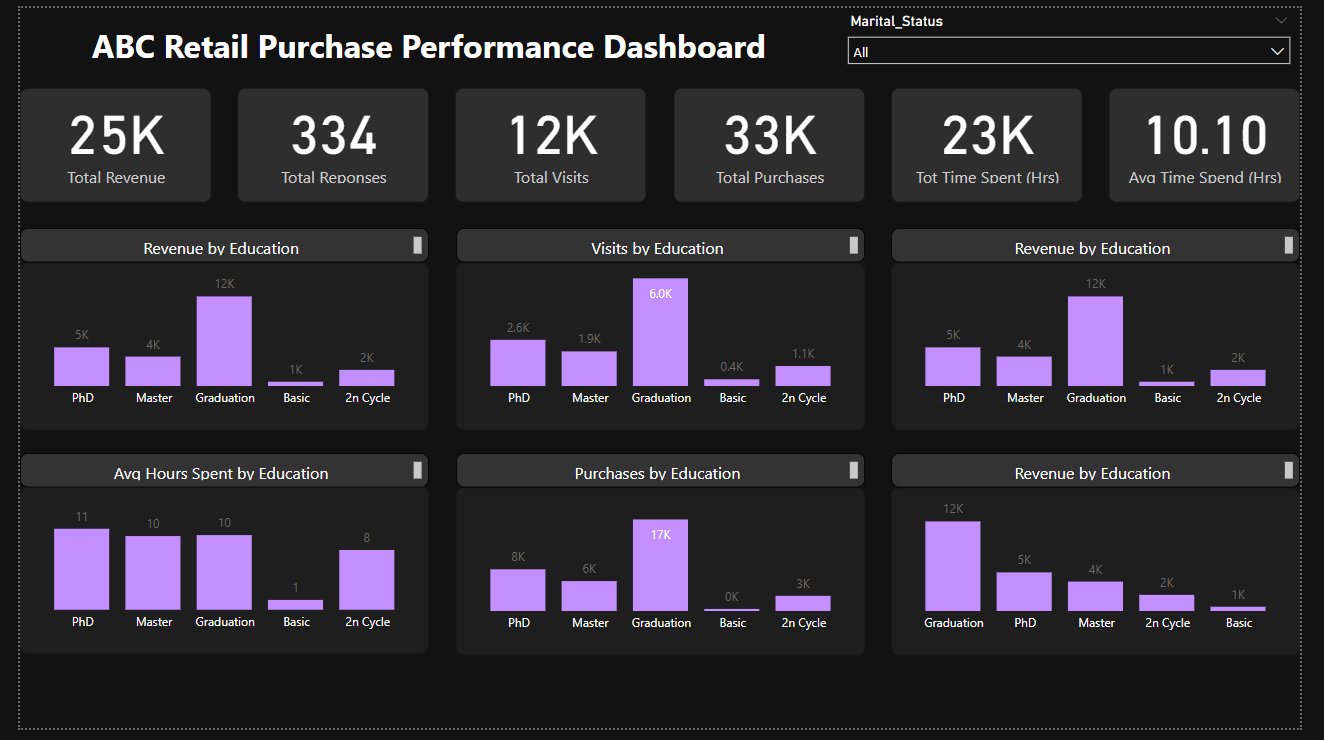

The page's visual inventory and layout, read from the dashboard file:
{"tool":"powerbi","page":{"name":"Page 1","canvas":[1280,720],"ordinal":0},"visuals":[{"type":"card","fields":{"Values":["C2_Customer_Marketing_PBI_4July2023.Total Revenue"]},"box":[0,80.1,191.3,114.4],"z":0},{"type":"card","fields":{"Values":["C2_Customer_Marketing_PBI_4July2023.Time Spent (Mins)"]},"box":[870.9,80.1,191.3,114.4],"z":1000},{"type":"card","fields":{"Values":["C2_Customer_Marketing_PBI_4July2023.Total Reponses"]},"box":[217.7,80.1,191.3,114.4],"z":2000},{"type":"card","fields":{"Values":["C2_Customer_Marketing_PBI_4July2023.Total Visits"]},"box":[435.5,80.1,191.3,114.4],"z":3000},{"type":"card","fields":{"Values":["C2_Customer_Marketing_PBI_4July2023.Total Purchases"]},"box":[653.2,80.1,191.3,114.4],"z":4000},{"type":"card","fields":{"Values":["C2_Customer_Marketing_PBI_4July2023.Avg Time Spend (Hrs)"]},"box":[1088.7,80.1,191.3,114.4],"z":5000},{"type":"textbox","box":[0,0,817.5,57.5],"z":6000},{"type":"columnChart","fields":{"Y":["C2_Customer_Marketing_PBI_4July2023.Total Revenue"],"Category":["C2_Customer_Marketing_PBI_4July2023.Education"]},"box":[0,254.5,408.6,167.4],"z":7000},{"type":"textbox","box":[0,220.2,408.6,34.3],"z":8000},{"type":"columnChart","fields":{"Category":["C2_Customer_Marketing_PBI_4July2023.Education"],"Y":["C2_Customer_Marketing_PBI_4July2023.Avg Time Spend (Hrs)"]},"box":[0,479.1,408.6,167.4],"z":9000},{"type":"textbox","box":[0,444.8,408.6,34.3],"z":10000},{"type":"columnChart","fields":{"Category":["C2_Customer_Marketing_PBI_4July2023.Education"],"Y":["C2_Customer_Marketing_PBI_4July2023.Total Visits"]},"box":[435.7,254.5,408.6,167.4],"z":11000},{"type":"textbox","box":[435.7,220.2,408.6,34.3],"z":12000},{"type":"columnChart","fields":{"Category":["C2_Customer_Marketing_PBI_4July2023.Education"],"Y":["C2_Customer_Marketing_PBI_4July2023.Total Purchases"]},"box":[436.1,479.5,408.6,167.4],"z":13000},{"type":"textbox","box":[436.1,445.2,408.6,34.3],"z":14000},{"type":"columnChart","fields":{"Y":["C2_Customer_Marketing_PBI_4July2023.Total Revenue"],"Category":["C2_Customer_Marketing_PBI_4July2023.Education"]},"box":[871.4,254.5,408.6,167.4],"z":15000},{"type":"textbox","box":[871.4,220.2,408.6,34.3],"z":16000},{"type":"columnChart","fields":{"Y":["C2_Customer_Marketing_PBI_4July2023.Total Revenue"],"Category":["C2_Customer_Marketing_PBI_4July2023.Education"]},"box":[871.8,479.5,408.6,167.4],"z":17000},{"type":"textbox","box":[870.7,445.2,408.6,34.3],"z":18000},{"type":"slicer","fields":{"Values":["C2_Customer_Marketing_PBI_4July2023.Marital_Status"]},"box":[817.3,0,462.7,80.1],"z":19000}]}

Visuals, with their boxes in screenshot pixels (x1, y1, x2, y2), scaled from the page's 1280x720 canvas onto the 1324x740 screenshot:
card - C2_Customer_Marketing_PBI_4July2023.Total Revenue: box=[0, 82, 198, 200]
card - C2_Customer_Marketing_PBI_4July2023.Time Spent (Mins): box=[901, 82, 1099, 200]
card - C2_Customer_Marketing_PBI_4July2023.Total Reponses: box=[225, 82, 423, 200]
card - C2_Customer_Marketing_PBI_4July2023.Total Visits: box=[450, 82, 648, 200]
card - C2_Customer_Marketing_PBI_4July2023.Total Purchases: box=[676, 82, 874, 200]
card - C2_Customer_Marketing_PBI_4July2023.Avg Time Spend (Hrs): box=[1126, 82, 1323, 200]
textbox: box=[0, 0, 846, 59]
columnChart - C2_Customer_Marketing_PBI_4July2023.Total Revenue x C2_Customer_Marketing_PBI_4July2023.Education: box=[0, 262, 423, 434]
textbox: box=[0, 226, 423, 262]
columnChart - C2_Customer_Marketing_PBI_4July2023.Education x C2_Customer_Marketing_PBI_4July2023.Avg Time Spend (Hrs): box=[0, 492, 423, 664]
textbox: box=[0, 457, 423, 492]
columnChart - C2_Customer_Marketing_PBI_4July2023.Education x C2_Customer_Marketing_PBI_4July2023.Total Visits: box=[451, 262, 873, 434]
textbox: box=[451, 226, 873, 262]
columnChart - C2_Customer_Marketing_PBI_4July2023.Education x C2_Customer_Marketing_PBI_4July2023.Total Purchases: box=[451, 493, 874, 665]
textbox: box=[451, 458, 874, 493]
columnChart - C2_Customer_Marketing_PBI_4July2023.Total Revenue x C2_Customer_Marketing_PBI_4July2023.Education: box=[901, 262, 1323, 434]
textbox: box=[901, 226, 1323, 262]
columnChart - C2_Customer_Marketing_PBI_4July2023.Total Revenue x C2_Customer_Marketing_PBI_4July2023.Education: box=[902, 493, 1323, 665]
textbox: box=[901, 458, 1323, 493]
slicer - C2_Customer_Marketing_PBI_4July2023.Marital_Status: box=[845, 0, 1323, 82]
